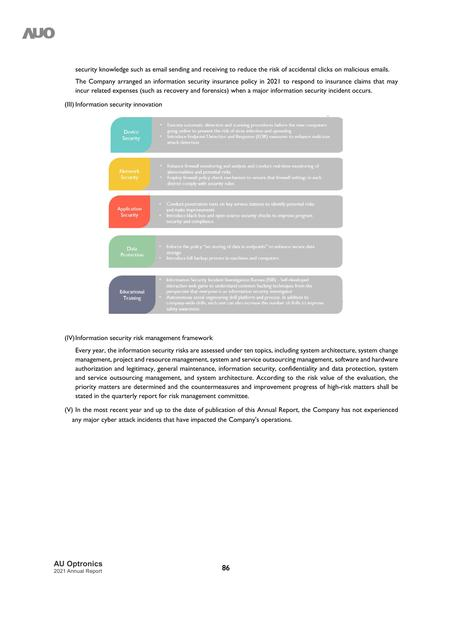box: (107, 115, 347, 318)
